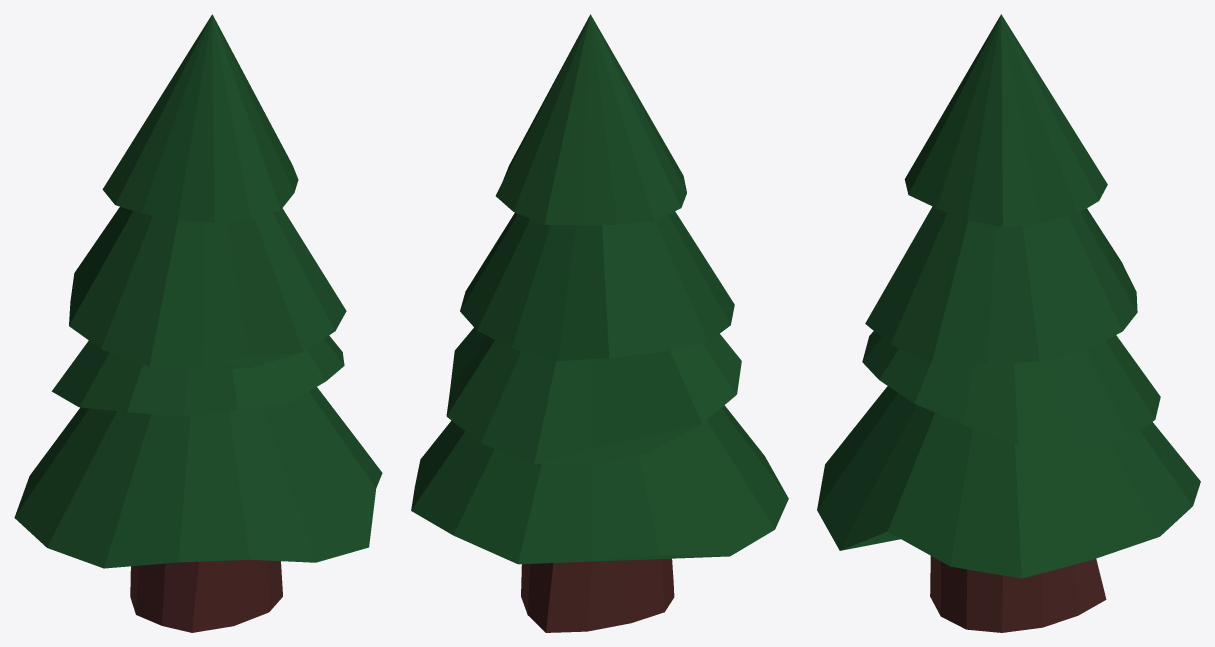
The model's file is Tree2.fbx.
3 views of the same model, side by side, from view 1: azimuth 30°, elevation 25°; view 2: azimuth 150°, elevation 25°; view 3: azimuth 270°, elevation 25° (orthographic).
Visible parts, largest first — view 1: Tree1; view 2: Tree1; view 3: Tree1.
Part boxes in pixels (box(x1,y1,x2,y2)): Tree1: box(14, 14, 382, 632); Tree1: box(411, 14, 788, 632); Tree1: box(817, 14, 1200, 632).
Bounding box in the file's own units: 414 × 685 × 405.
